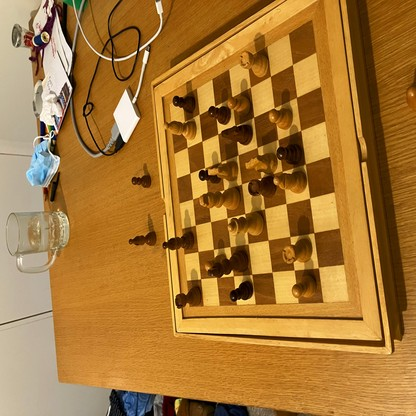bishop_black: (163, 232, 194, 251), (129, 231, 155, 245)
bishop_white: (274, 170, 306, 194), (164, 122, 197, 140)
king_black: (208, 249, 249, 276)
king_white: (200, 189, 240, 211)
knight_black: (222, 125, 252, 143)
knight_white: (246, 154, 280, 173), (246, 153, 279, 171), (207, 162, 238, 181)
pawn_black: (231, 279, 254, 302), (278, 145, 303, 162), (208, 105, 231, 122), (173, 96, 196, 112), (200, 167, 221, 184), (132, 175, 151, 188)
pawn_white: (292, 275, 317, 297), (269, 109, 293, 129), (227, 95, 249, 113), (205, 254, 226, 272)
queen_white: (228, 214, 263, 236)
rock_black: (174, 285, 202, 309), (249, 177, 277, 196)
rock_white: (240, 52, 268, 77), (283, 240, 312, 264)
